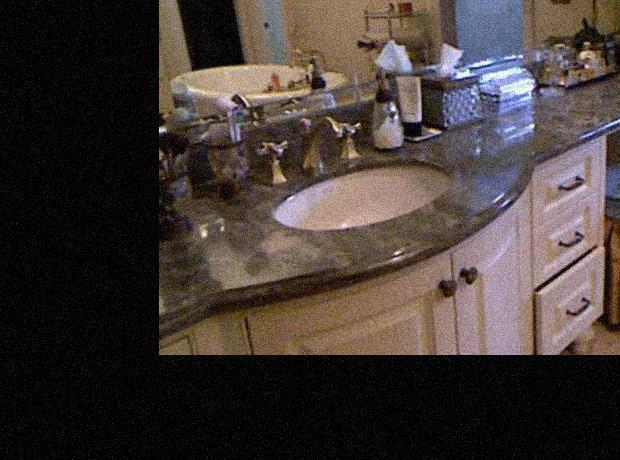Lavamanos: (254, 104, 467, 253)
